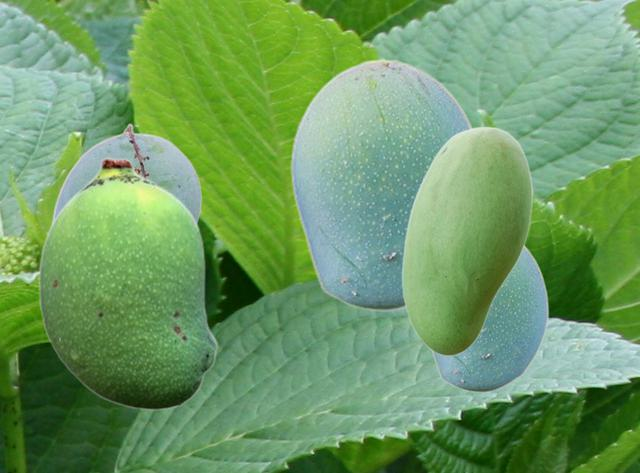green_mango: (289, 58, 475, 311), (38, 157, 217, 410), (401, 126, 531, 355), (429, 244, 548, 392), (51, 123, 201, 224)
